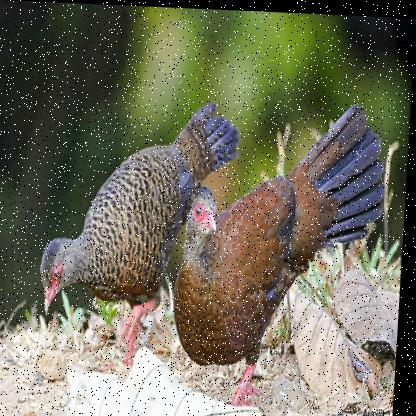Burung: (171, 91, 394, 412), (38, 91, 242, 368)
